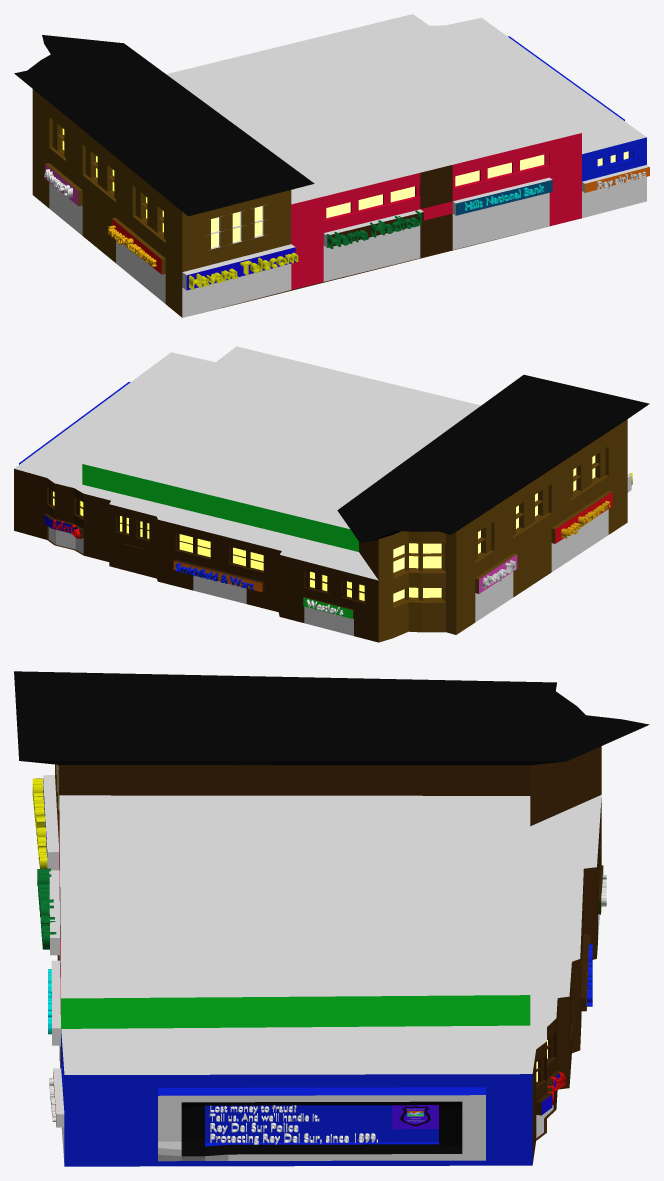
Rendered from el_garcia_boulevard_shops_1.fbx.
3 views of the same model, one above another, from view 1: azimuth 30°, elevation 25°; view 2: azimuth 150°, elevation 25°; view 3: azimuth 270°, elevation 25° (orthographic). The views are drawn at different scales.
Visible parts, largest first — view 1: EGB_shops_1; view 2: EGB_shops_1; view 3: EGB_shops_1.
Part boxes in pixels (x1,y1,x2,y2): EGB_shops_1: (14,14,649,317); EGB_shops_1: (14,346,649,642); EGB_shops_1: (14,671,649,1166).
Bounding box in the file's own units: 600 × 134 × 472.
